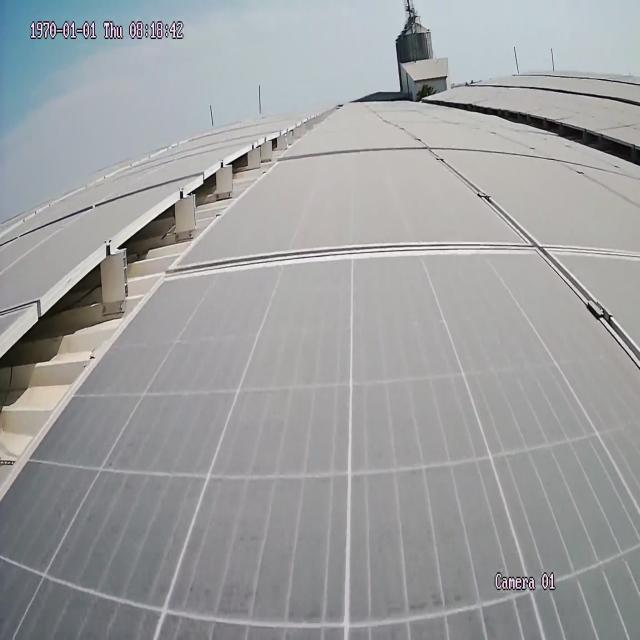interior panel: (189, 155, 640, 382)
outher panel: (0, 116, 326, 501), (492, 109, 640, 166)
